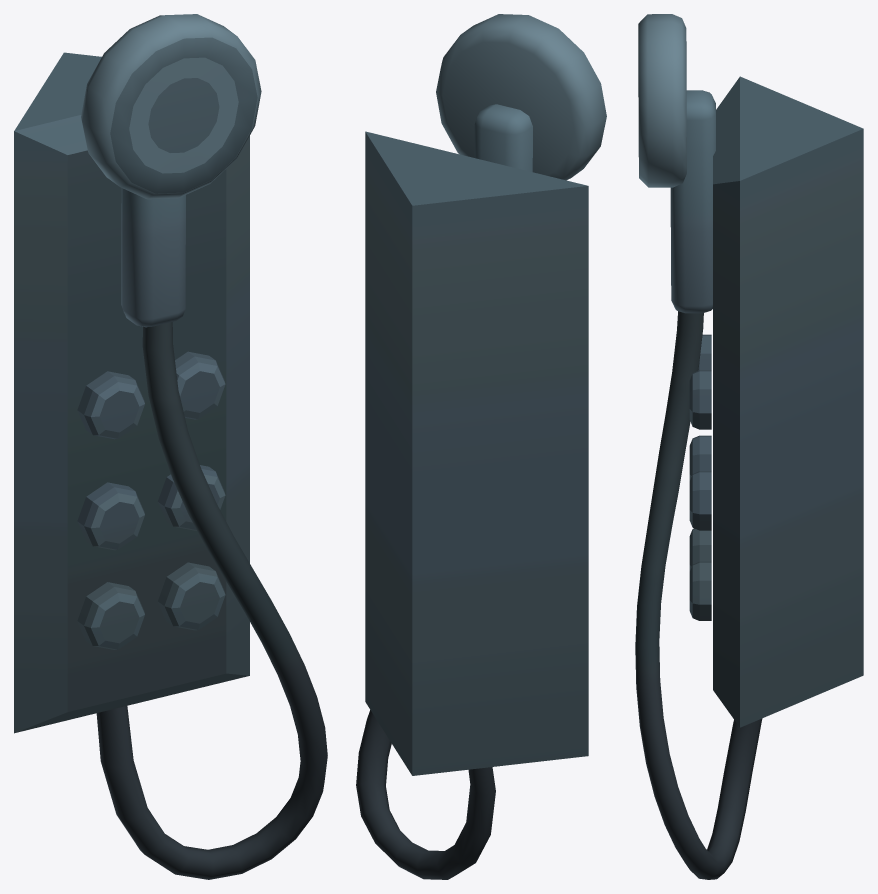
File: Mixer_11.glb
3 views of the same model, side by side, from view 1: azimuth 30°, elevation 25°; view 2: azimuth 150°, elevation 25°; view 3: azimuth 270°, elevation 25° (orthographic). The views are drawn at different scales.
Visible parts, largest first — view 1: Mixer_11; view 2: Mixer_11; view 3: Mixer_11.
Boxes of the visible parts, <box> form: Mixer_11: <box>14,14,327,879</box>; Mixer_11: <box>356,14,606,879</box>; Mixer_11: <box>635,14,863,879</box>.
Size of the model in its own units: 0.2915 by 0.9104 by 0.231.
1 material, 1 textured.
